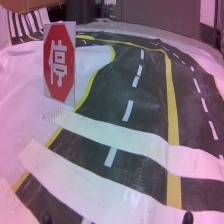stop: (43, 21, 77, 107)
